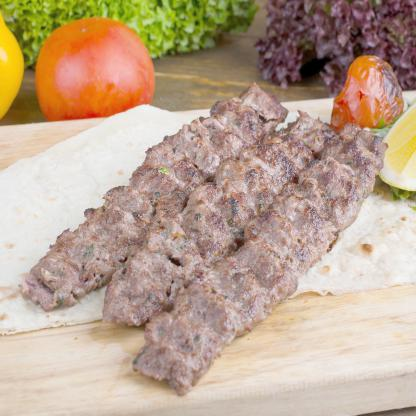Carne: (213, 153, 275, 226), (176, 184, 235, 254), (283, 175, 353, 233), (140, 154, 192, 216), (100, 194, 158, 244), (66, 230, 124, 278), (21, 258, 80, 304), (173, 304, 231, 350), (276, 208, 331, 256), (150, 227, 206, 274), (210, 269, 268, 314), (151, 341, 212, 382), (132, 247, 183, 294), (246, 240, 303, 282), (156, 138, 203, 188), (325, 153, 372, 201), (105, 279, 158, 321), (229, 94, 277, 139), (266, 139, 314, 182), (329, 130, 386, 165), (211, 113, 255, 151), (190, 125, 224, 173), (285, 122, 334, 151)
